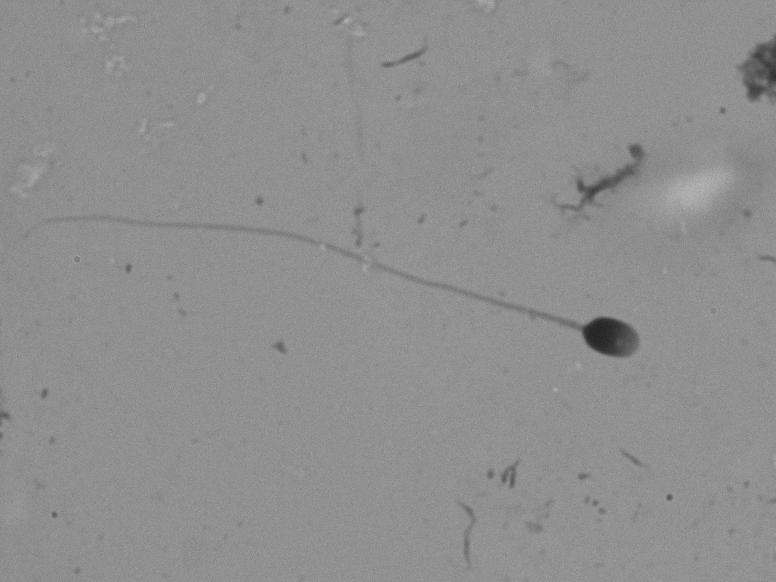Normal: (8, 201, 661, 393)
